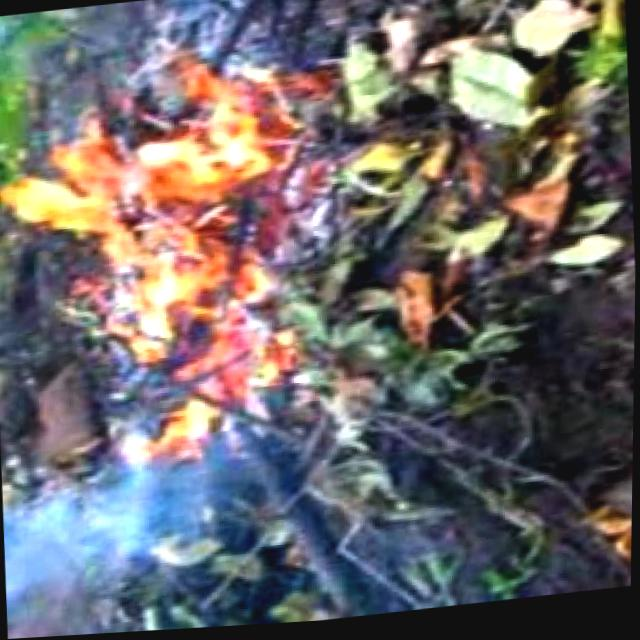helmet: (0, 24, 355, 496)
